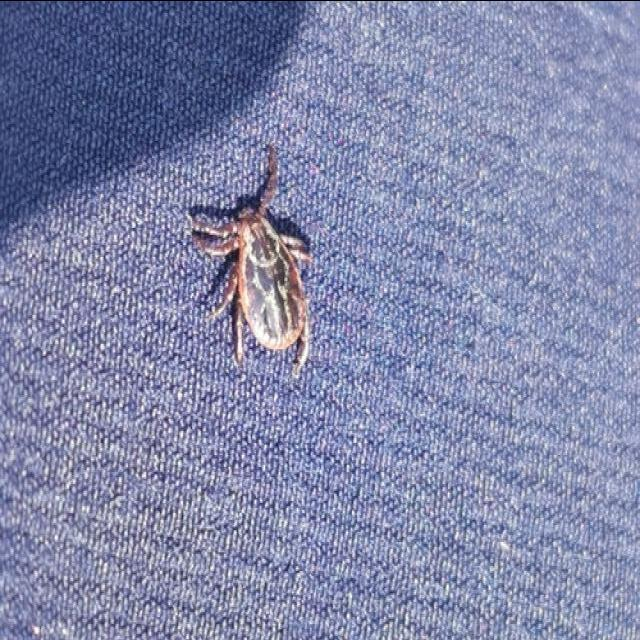Dermacentor Reticulatus-M: (191, 145, 311, 375)
